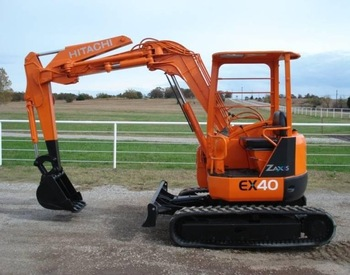backhoe: (22, 35, 338, 252)
